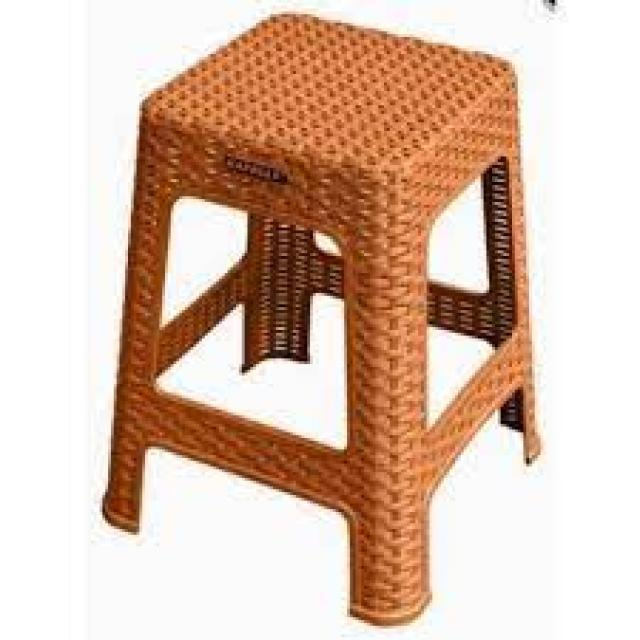chair: (94, 4, 544, 626)
